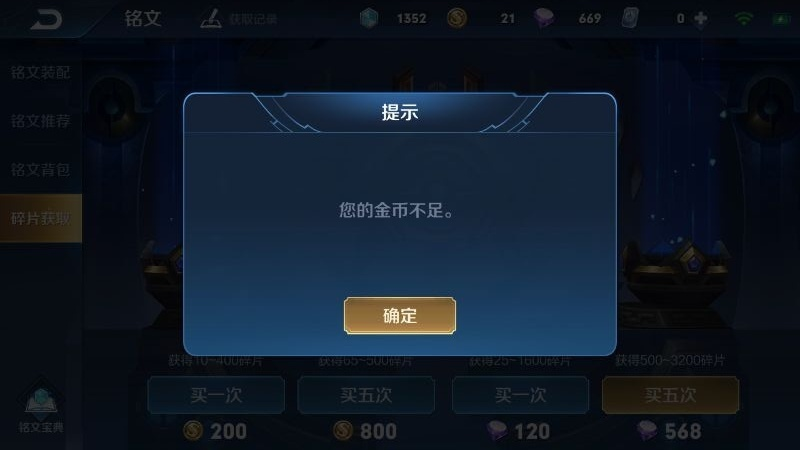tag: (346, 294, 450, 333)
